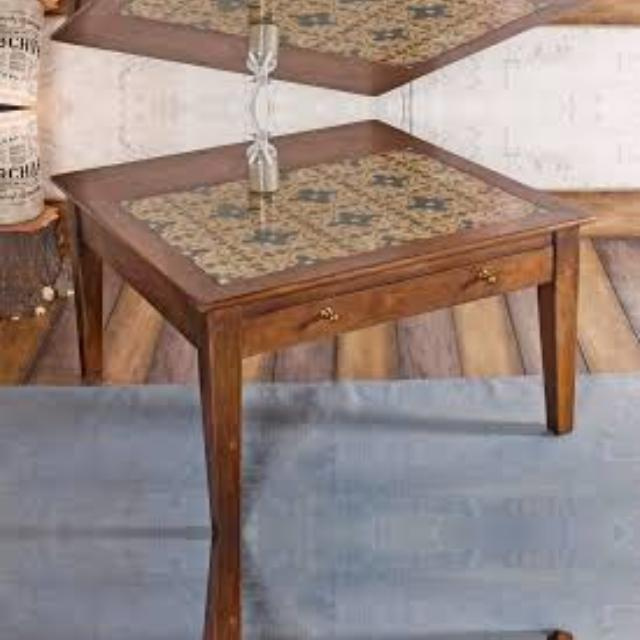obstacle: (45, 140, 601, 518), (45, 547, 601, 640), (45, 0, 601, 74)
